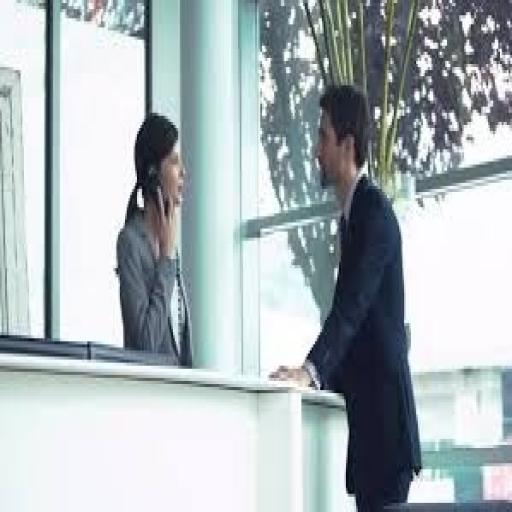calling: (267, 79, 425, 509), (113, 106, 195, 368)
